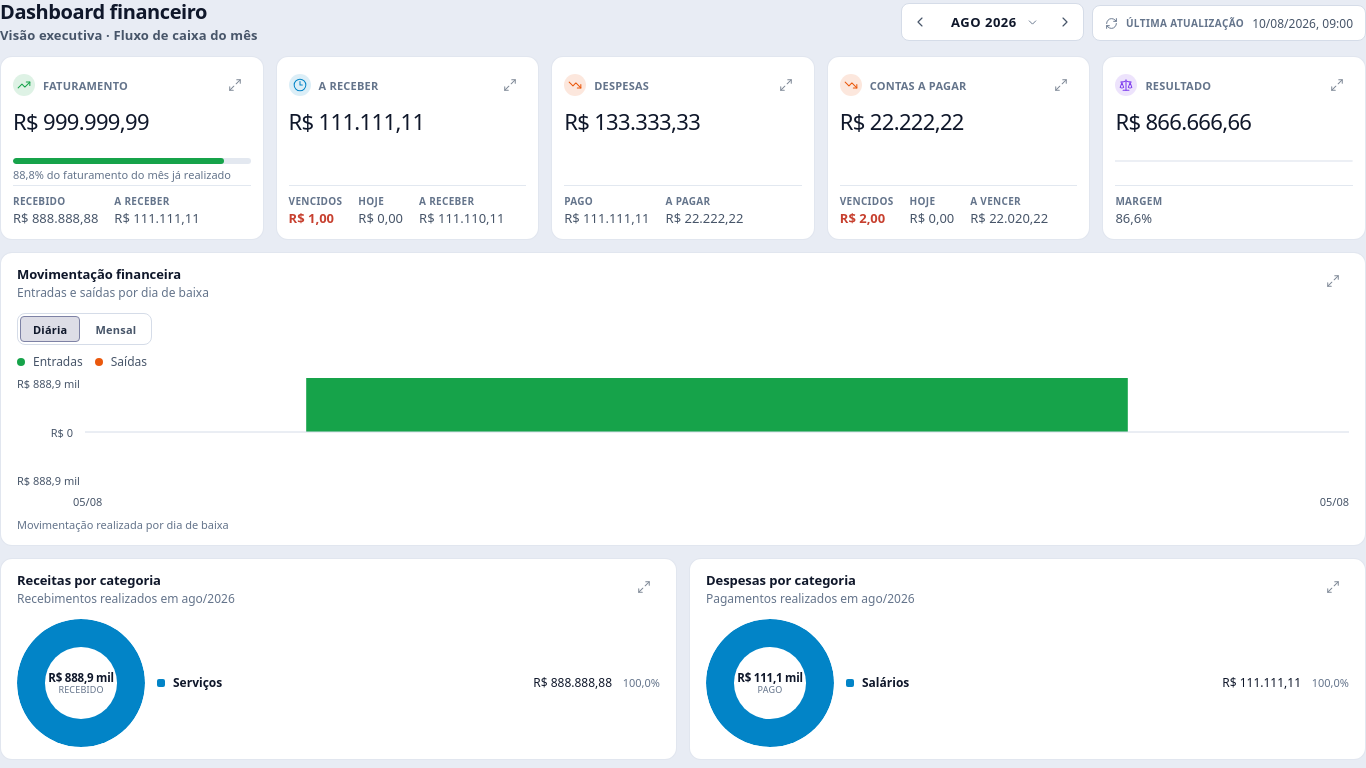
it: PRE-F13-HOME-POLISH-1 — expansão Home caixa › Z6/Z7/Z8 — A receber abre estoque com vencidos e detalhes lazy
The image size is (1366, 768).
Check: the element named "Resumo financeiro de caixa do mês" is shown, box [0,56,1365,240]
Check: the button "A receber" is shown, box [276,56,539,240]
Click the 2nd button named "Expandir": (510,85) [494,69,526,101]
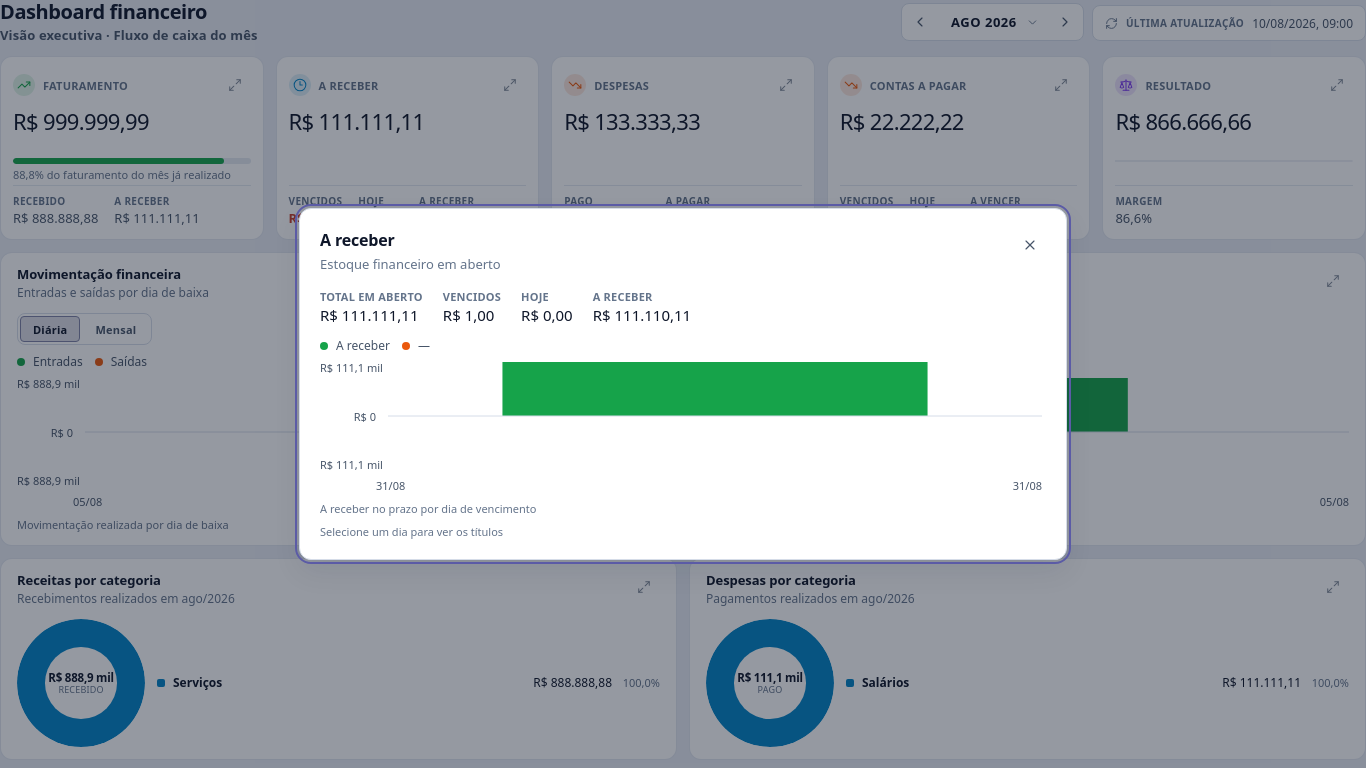
Check: the heading "A receber" is shown, box [320,229,395,251]
Check: the text "Total em aberto" is shown, box [320,289,423,304]
Check: the text "Estoque financeiro em aberto" is shown, box [320,255,501,273]
